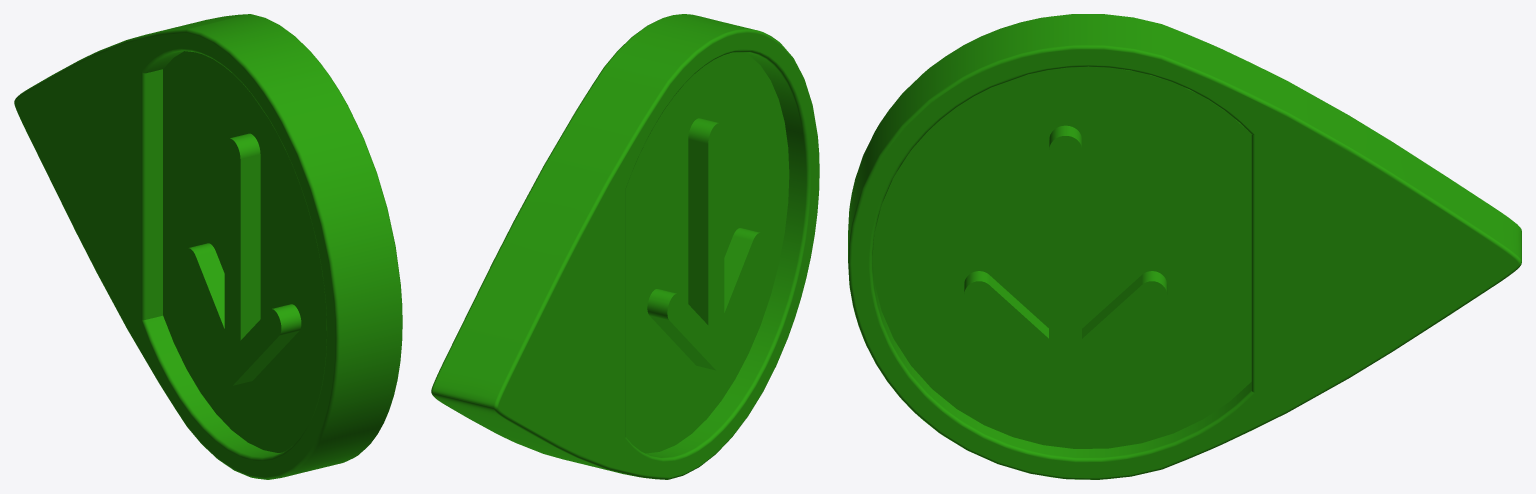
The model's file is ICONO 13.fbx.
3 renders of one model, left to right at view 1: azimuth 30°, elevation 25°; view 2: azimuth 150°, elevation 25°; view 3: azimuth 270°, elevation 25°, orthographic. The views are drawn at different scales.
Parts seen in each view (by area): view 1: Icono 3; view 2: Icono 3; view 3: Icono 3.
Boxes of the visible parts, <box> form: Icono 3: <box>14,14,402,479</box>; Icono 3: <box>431,14,819,479</box>; Icono 3: <box>848,14,1521,479</box>.
Size of the model in its own units: 112 by 675 by 947.
